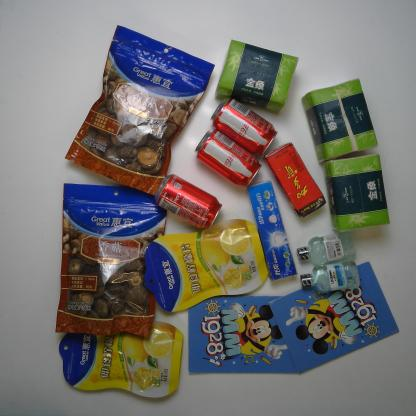Dried Food: (64, 24, 216, 198), (53, 182, 182, 341)
Dried Fruit: (142, 218, 270, 313), (53, 319, 184, 399)
Drink: (263, 138, 325, 222), (207, 91, 280, 158), (190, 124, 262, 188), (151, 170, 224, 232)
Personal Hygiene: (246, 178, 298, 284), (298, 258, 363, 295), (297, 230, 356, 269)
Stationery: (269, 261, 401, 376), (186, 292, 310, 376)
Tissue: (300, 78, 379, 165), (215, 37, 300, 114), (324, 151, 390, 232)
